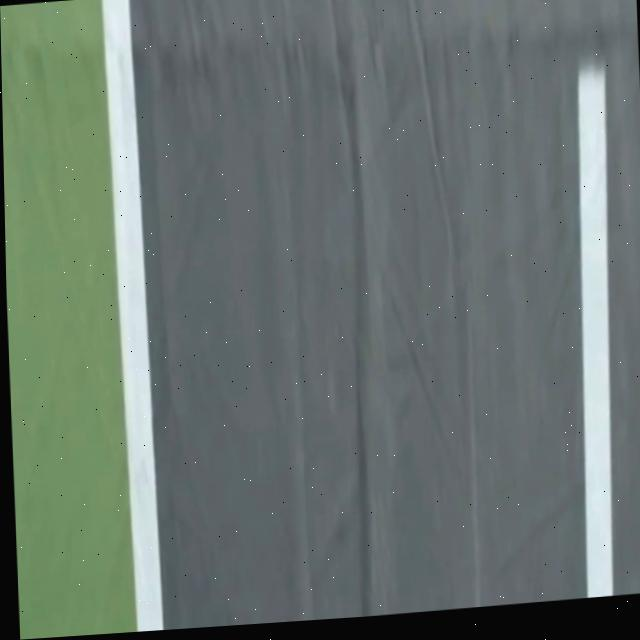center: (578, 58, 613, 597)
right: (102, 0, 164, 632)
